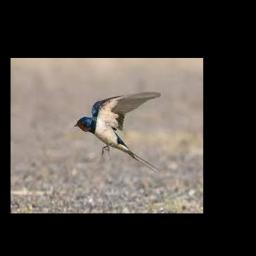Swallow: (74, 91, 161, 172)
